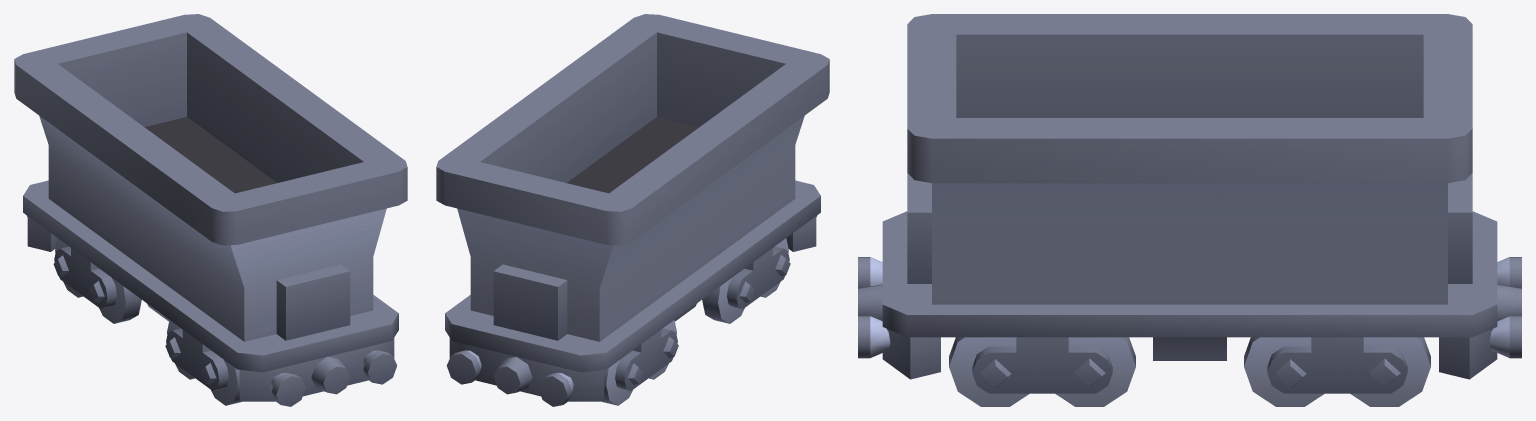
The model's file is kenney-train-train-carriage-box.glb.
3 views of the same model, side by side, from view 1: azimuth 30°, elevation 25°; view 2: azimuth 150°, elevation 25°; view 3: azimuth 270°, elevation 25° (orthographic). The views are drawn at different scales.
Parts seen in each view (by area): view 1: train-carriage-box; view 2: train-carriage-box; view 3: train-carriage-box.
Boxes of the visible parts, x1,y1,x2,y2 form: train-carriage-box: [14, 14, 407, 406]; train-carriage-box: [436, 14, 829, 406]; train-carriage-box: [858, 14, 1521, 406].
Bounding box in the file's own units: 1.2 × 1.3 × 2.7.
1 material, 1 textured.
